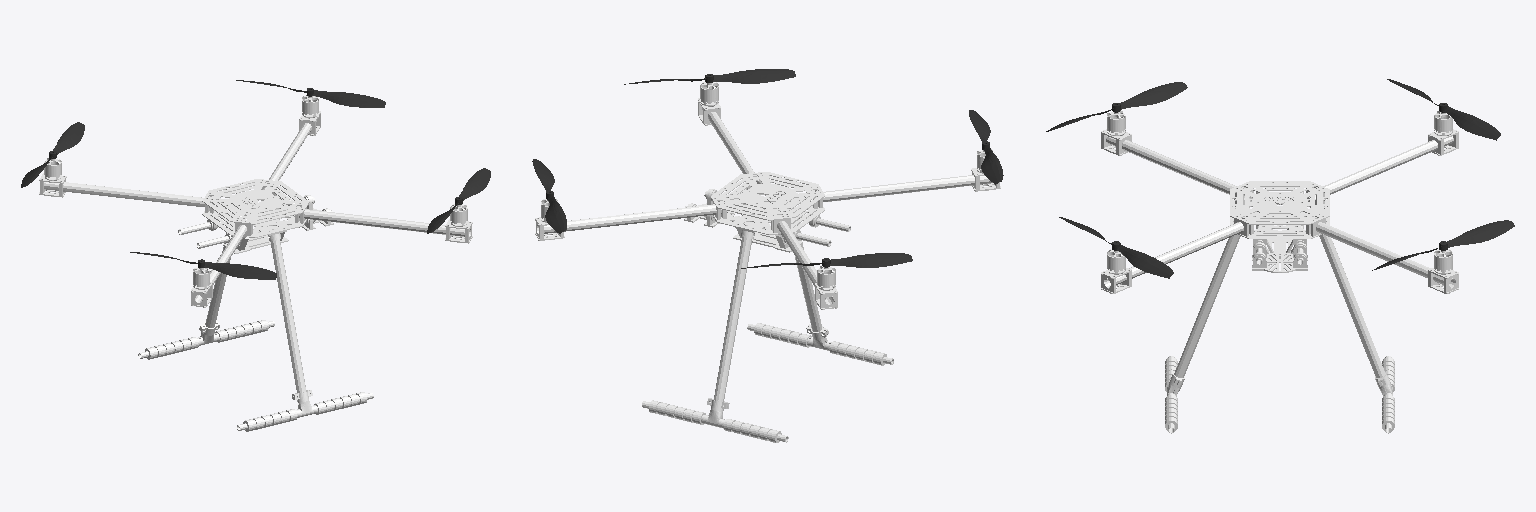
robot.urdf — uav_urdf_export_v1:
<?xml version="1.0" encoding="utf-8"?>
<!-- This URDF was automatically created by SolidWorks to URDF Exporter! Originally created by Stephen Brawner (brawner@gmail.com) 
     Commit Version: 1.6.1-13-g25da24a-dirty  Build Version: 1.6.9436.28802
     For more information, please see http://wiki.ros.org/sw_urdf_exporter -->
<robot
  name="uav_urdf_export_v1">
  <link
    name="body">
    <inertial>
      <origin
        xyz="0.0030318 1.4861E-06 -0.091887"
        rpy="0 0 0" />
      <mass
        value="0.55051" />
      <inertia
        ixx="0.00096053"
        ixy="-1.1089E-08"
        ixz="1.9926E-15"
        iyy="0.0012578"
        iyz="-8.827E-15"
        izz="0.0015077" />
    </inertial>
    <visual>
      <origin
        xyz="0 0 0"
        rpy="0 0 0" />
      <geometry>
        <mesh
          filename="package://uav_urdf_export_v1/meshes/body.STL" />
      </geometry>
      <material
        name="">
        <color
          rgba="1 1 1 1" />
      </material>
    </visual>
    <collision>
      <origin
        xyz="0 0 0"
        rpy="0 0 0" />
      <geometry>
        <mesh
          filename="package://uav_urdf_export_v1/meshes/body.STL" />
      </geometry>
    </collision>
  </link>
  <link
    name="rotor0">
    <inertial>
      <origin
        xyz="-8.2901E-10 -2.5587E-10 -0.0038263"
        rpy="0 0 0" />
      <mass
        value="0.0047043" />
      <inertia
        ixx="8.3999E-06"
        ixy="1.0528E-05"
        ixz="1.9246E-14"
        iyy="1.3602E-05"
        iyz="-3.3218E-15"
        izz="2.1938E-05" />
    </inertial>
    <visual>
      <origin
        xyz="0 0 0"
        rpy="0 0 0" />
      <geometry>
        <mesh
          filename="package://uav_urdf_export_v1/meshes/rotor0.STL" />
      </geometry>
      <material
        name="">
        <color
          rgba="0.25098 0.25098 0.25098 1" />
      </material>
    </visual>
    <collision>
      <origin
        xyz="0 0 0"
        rpy="0 0 0" />
      <geometry>
        <mesh
          filename="package://uav_urdf_export_v1/meshes/rotor0.STL" />
      </geometry>
    </collision>
  </link>
  <joint
    name="joint0"
    type="revolute">
    <origin
      xyz="0.24042 -0.24042 0.0466"
      rpy="0 0 0" />
    <parent
      link="body" />
    <child
      link="rotor0" />
    <axis
      xyz="0 0 -1" />
    <limit
      lower="0"
      upper="0"
      effort="0"
      velocity="0" />
  </joint>
  <link
    name="rotor1">
    <inertial>
      <origin
        xyz="-6.0744E-09 -1.8748E-09 -0.0038263"
        rpy="0 0 0" />
      <mass
        value="0.0047043" />
      <inertia
        ixx="8.3999E-06"
        ixy="1.0528E-05"
        ixz="1.4102E-13"
        iyy="1.3602E-05"
        iyz="-2.434E-14"
        izz="2.1938E-05" />
    </inertial>
    <visual>
      <origin
        xyz="0 0 0"
        rpy="0 0 0" />
      <geometry>
        <mesh
          filename="package://uav_urdf_export_v1/meshes/rotor1.STL" />
      </geometry>
      <material
        name="">
        <color
          rgba="0.25098 0.25098 0.25098 1" />
      </material>
    </visual>
    <collision>
      <origin
        xyz="0 0 0"
        rpy="0 0 0" />
      <geometry>
        <mesh
          filename="package://uav_urdf_export_v1/meshes/rotor1.STL" />
      </geometry>
    </collision>
  </link>
  <joint
    name="joint1"
    type="revolute">
    <origin
      xyz="-0.24042 0.24042 0.0466"
      rpy="0 0 0" />
    <parent
      link="body" />
    <child
      link="rotor1" />
    <axis
      xyz="0 0 -1" />
    <limit
      lower="0"
      upper="0"
      effort="0"
      velocity="0" />
  </joint>
  <link
    name="rotor2">
    <inertial>
      <origin
        xyz="-1.8748E-09 6.0744E-09 -0.0038263"
        rpy="0 0 0" />
      <mass
        value="0.0047043" />
      <inertia
        ixx="1.3602E-05"
        ixy="-1.0528E-05"
        ixz="-2.434E-14"
        iyy="8.3999E-06"
        iyz="-1.4102E-13"
        izz="2.1938E-05" />
    </inertial>
    <visual>
      <origin
        xyz="0 0 0"
        rpy="0 0 0" />
      <geometry>
        <mesh
          filename="package://uav_urdf_export_v1/meshes/rotor2.STL" />
      </geometry>
      <material
        name="">
        <color
          rgba="0.25098 0.25098 0.25098 1" />
      </material>
    </visual>
    <collision>
      <origin
        xyz="0 0 0"
        rpy="0 0 0" />
      <geometry>
        <mesh
          filename="package://uav_urdf_export_v1/meshes/rotor2.STL" />
      </geometry>
    </collision>
  </link>
  <joint
    name="joint2"
    type="revolute">
    <origin
      xyz="0.24042 0.24042 0.0466"
      rpy="0 0 0" />
    <parent
      link="body" />
    <child
      link="rotor2" />
    <axis
      xyz="0 0 -1" />
    <limit
      lower="0"
      upper="0"
      effort="0"
      velocity="0" />
  </joint>
  <link
    name="rotor3">
    <inertial>
      <origin
        xyz="-2.3865E-09 7.7324E-09 -0.0038263"
        rpy="0 0 0" />
      <mass
        value="0.0047043" />
      <inertia
        ixx="1.3602E-05"
        ixy="-1.0528E-05"
        ixz="-3.0983E-14"
        iyy="8.3999E-06"
        iyz="-1.7952E-13"
        izz="2.1938E-05" />
    </inertial>
    <visual>
      <origin
        xyz="0 0 0"
        rpy="0 0 0" />
      <geometry>
        <mesh
          filename="package://uav_urdf_export_v1/meshes/rotor3.STL" />
      </geometry>
      <material
        name="">
        <color
          rgba="0.25098 0.25098 0.25098 1" />
      </material>
    </visual>
    <collision>
      <origin
        xyz="0 0 0"
        rpy="0 0 0" />
      <geometry>
        <mesh
          filename="package://uav_urdf_export_v1/meshes/rotor3.STL" />
      </geometry>
    </collision>
  </link>
  <joint
    name="joint3"
    type="revolute">
    <origin
      xyz="-0.24042 -0.24042 0.0466"
      rpy="0 0 0" />
    <parent
      link="body" />
    <child
      link="rotor3" />
    <axis
      xyz="0 0 -1" />
    <limit
      lower="0"
      upper="0"
      effort="0"
      velocity="0" />
  </joint>
</robot>

--- What the picture shows (computed from the rendered views, not written in the file) ---
Views: 3 orthographic renders of the robot side by side, from view 1: azimuth 30°, elevation 25°; view 2: azimuth 150°, elevation 25°; view 3: azimuth 270°, elevation 25°.
Robot: uav_urdf_export_v1 — 5 links, 4 joints (4 revolute); root link body; default pose: every joint at zero.
Visible links, largest first — view 1: body, rotor3, rotor2, rotor0, rotor1; view 2: body, rotor1, rotor0, rotor2, rotor3; view 3: body, rotor2, rotor3, rotor0, rotor1.
Link boxes in pixels (x1,y1,x2,y2): body: [39, 95, 472, 431]; rotor3: [130, 252, 276, 279]; rotor2: [236, 80, 385, 107]; rotor0: [427, 168, 490, 233]; rotor1: [21, 122, 84, 187]; body: [535, 82, 1000, 442]; rotor1: [741, 253, 912, 268]; rotor0: [624, 69, 795, 84]; rotor2: [532, 159, 566, 233]; rotor3: [969, 110, 1003, 184]; body: [1101, 111, 1458, 433]; rotor2: [1372, 220, 1514, 270]; rotor3: [1046, 82, 1187, 131]; rotor0: [1059, 217, 1173, 278]; rotor1: [1387, 79, 1500, 140].
Bounding box of the posed robot: 0.6922 × 0.6922 × 0.368 m (x, y, z).
5 mesh visuals loaded from 5 distinct referenced files (5 binary STL).
